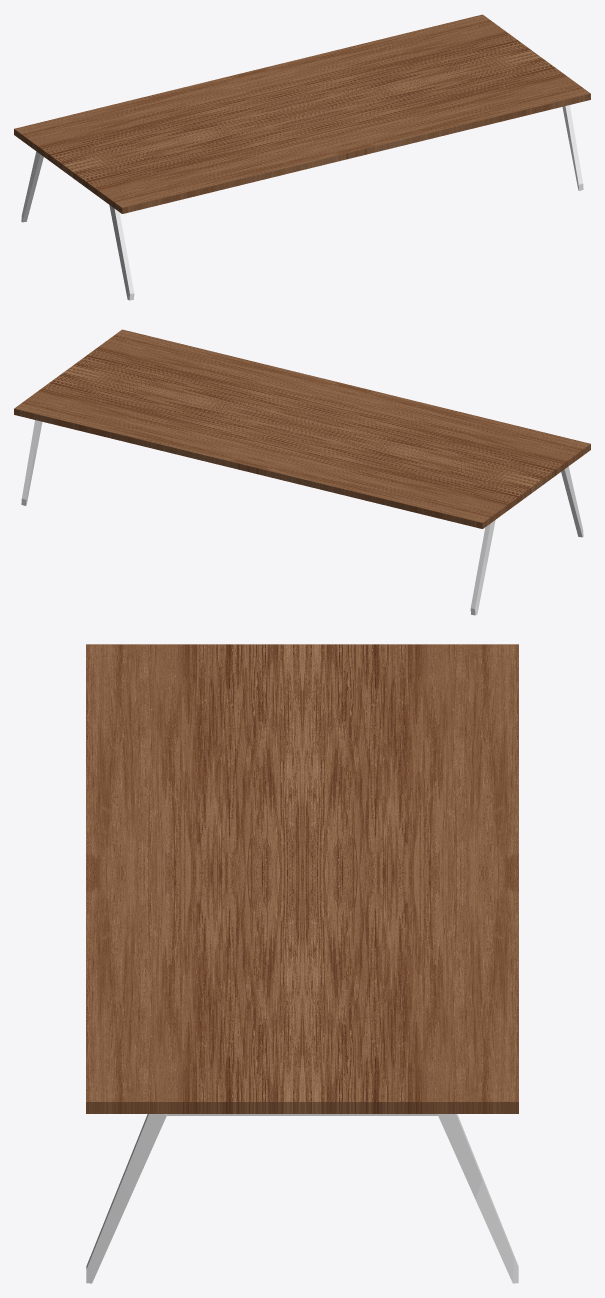
File: desk4.glb
3 views of the same model, one above another, from view 1: azimuth 30°, elevation 25°; view 2: azimuth 150°, elevation 25°; view 3: azimuth 270°, elevation 25° (orthographic). The views are drawn at different scales.
Visible parts, largest first — view 1: Desk; view 2: Desk; view 3: Desk.
Boxes of the visible parts, x1,y1,x2,y2 form: Desk: [14, 14, 590, 300]; Desk: [14, 329, 590, 615]; Desk: [86, 644, 518, 1283].
Bounding box in the file's own units: 4 × 0.7716 × 1.6.
Materials: 2 (1 with a texture image).
